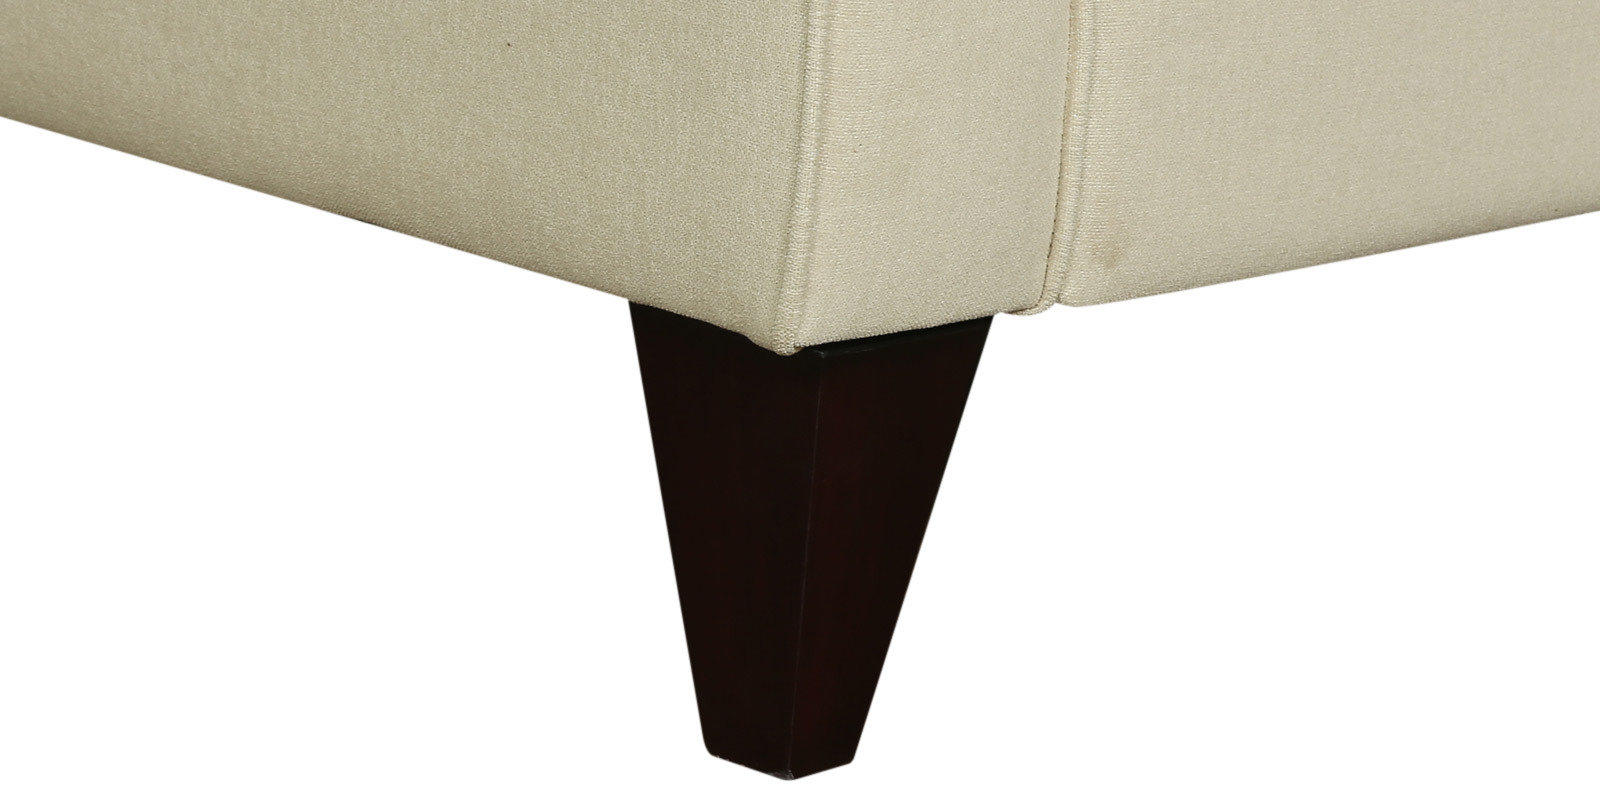Fuego Three Seater Sofa in Beige Colour by CasaCraft: (1, 5, 1600, 791)
